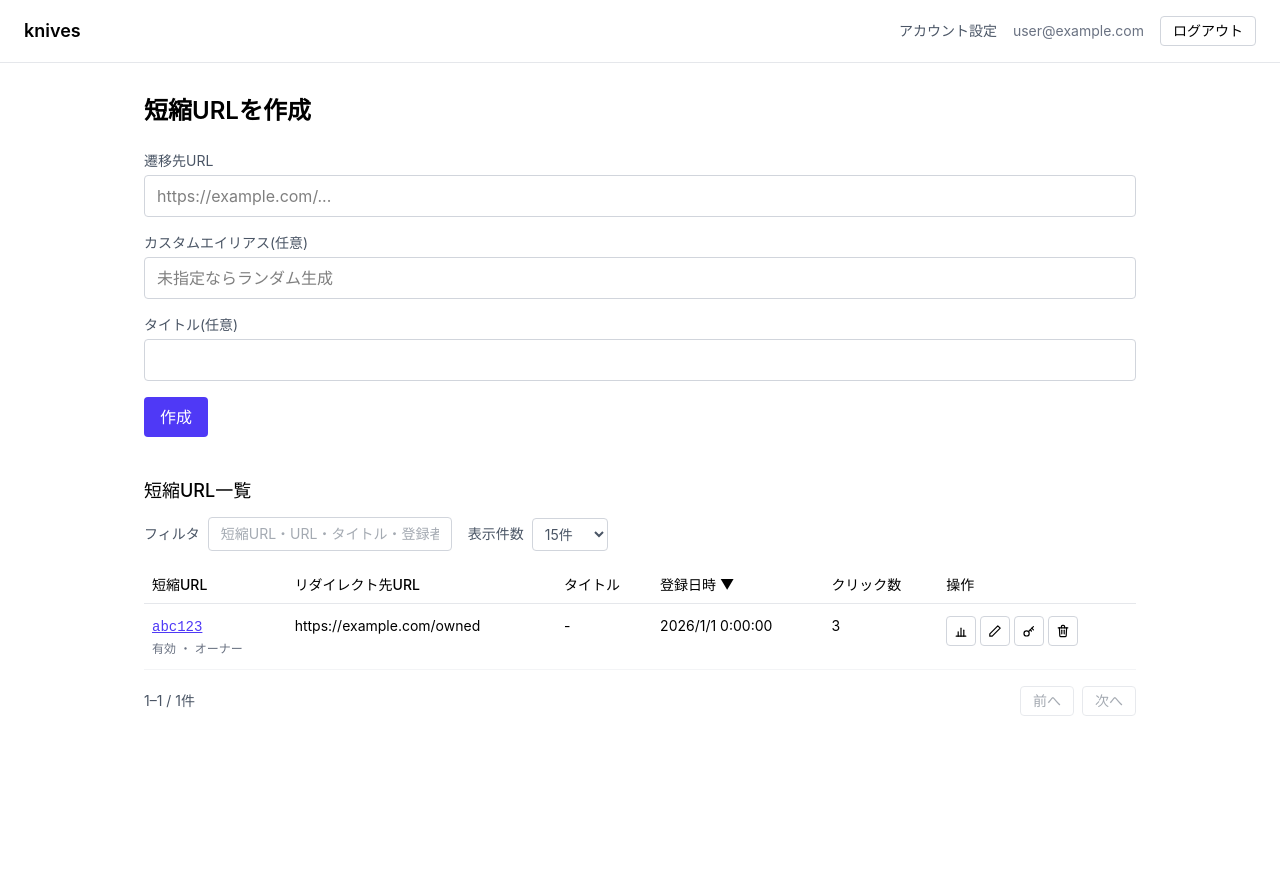
Test: DashboardPage › edits a URL via the inline edit form
This screenshot has width=1280, height=887.
Expected: the link "abc123" is shown, [152,619,202,635]
Click the button named "編集" at (995, 631), box [980,616,1010,646]
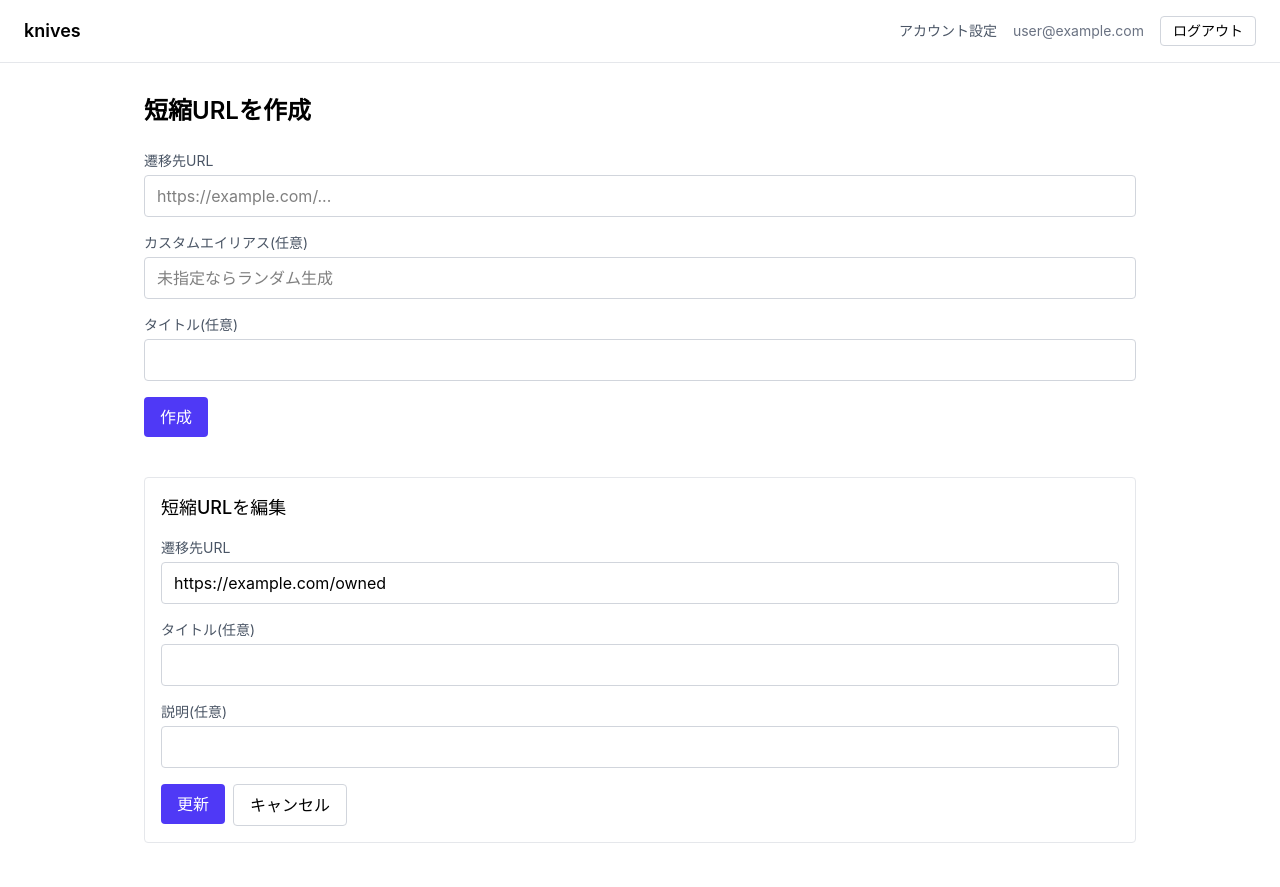
Replace the text in the field labelled "遷移先URL" below "短縮URLを編集" with "https://example.com/updated" at (640, 583), box [161,562,1119,604]
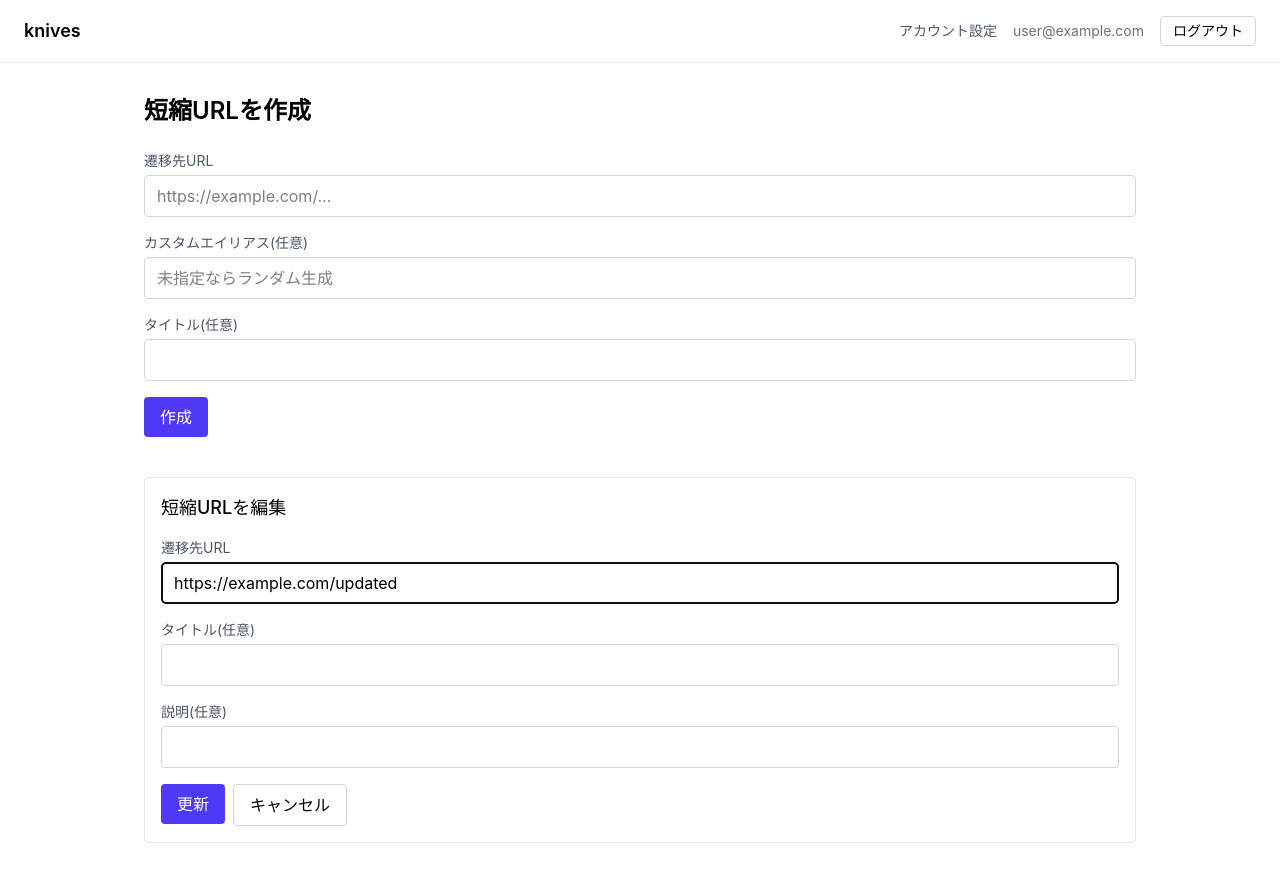
Click the button "更新" at (193, 804), box [161,784,225,824]
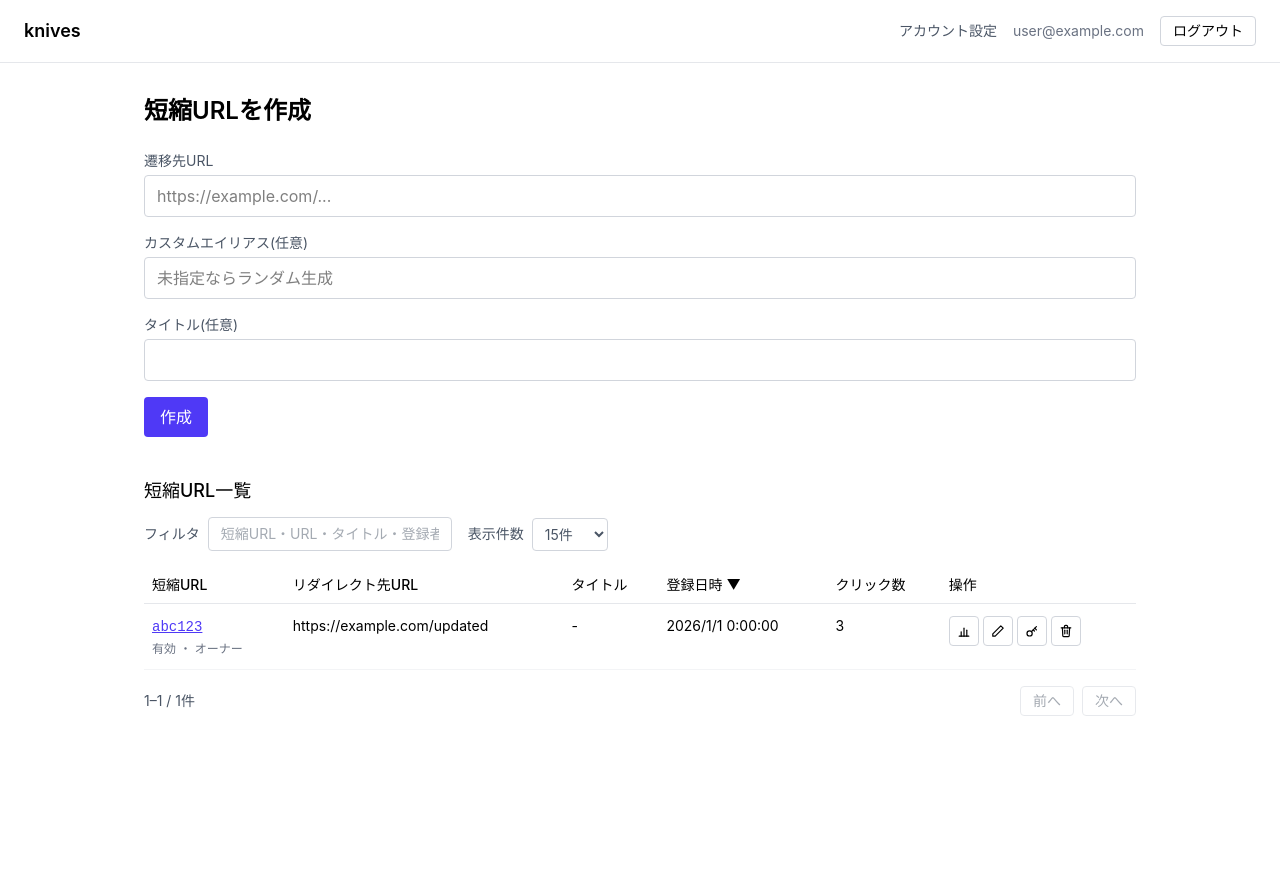
Expected: the text "https://example.com/updated" is shown, [285,604,564,670]
